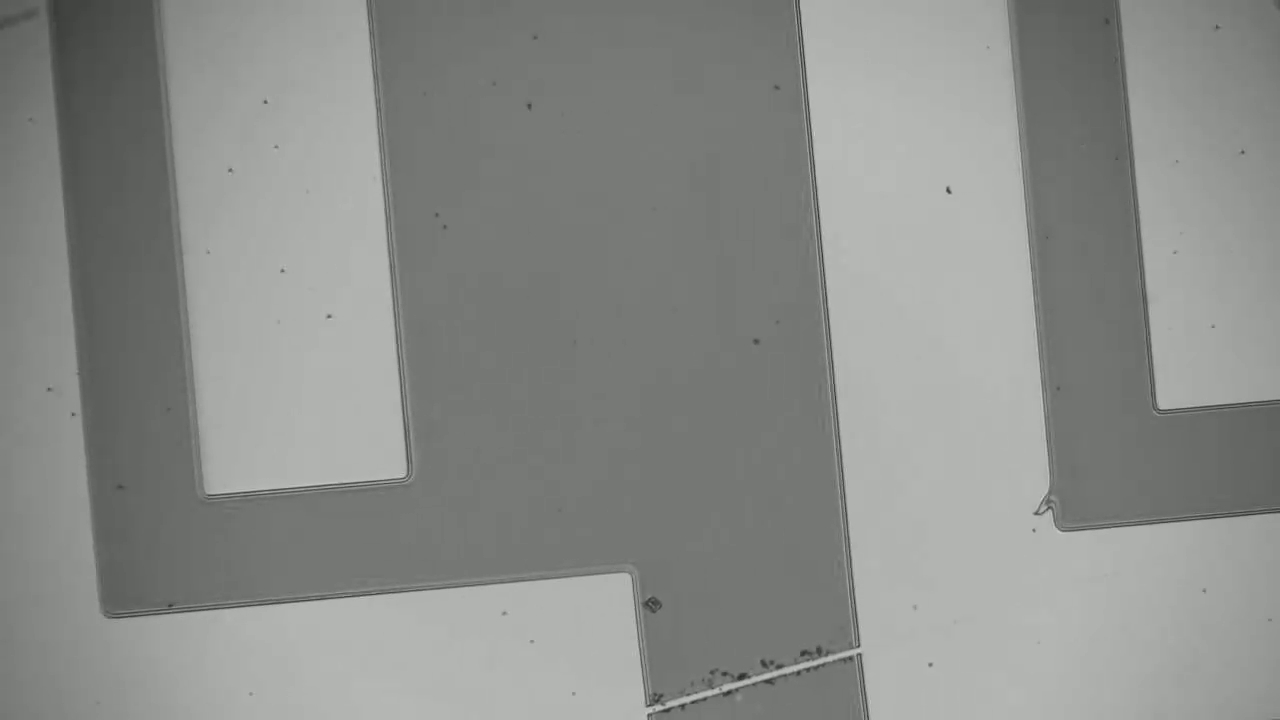scratch: (653, 651, 860, 710)
